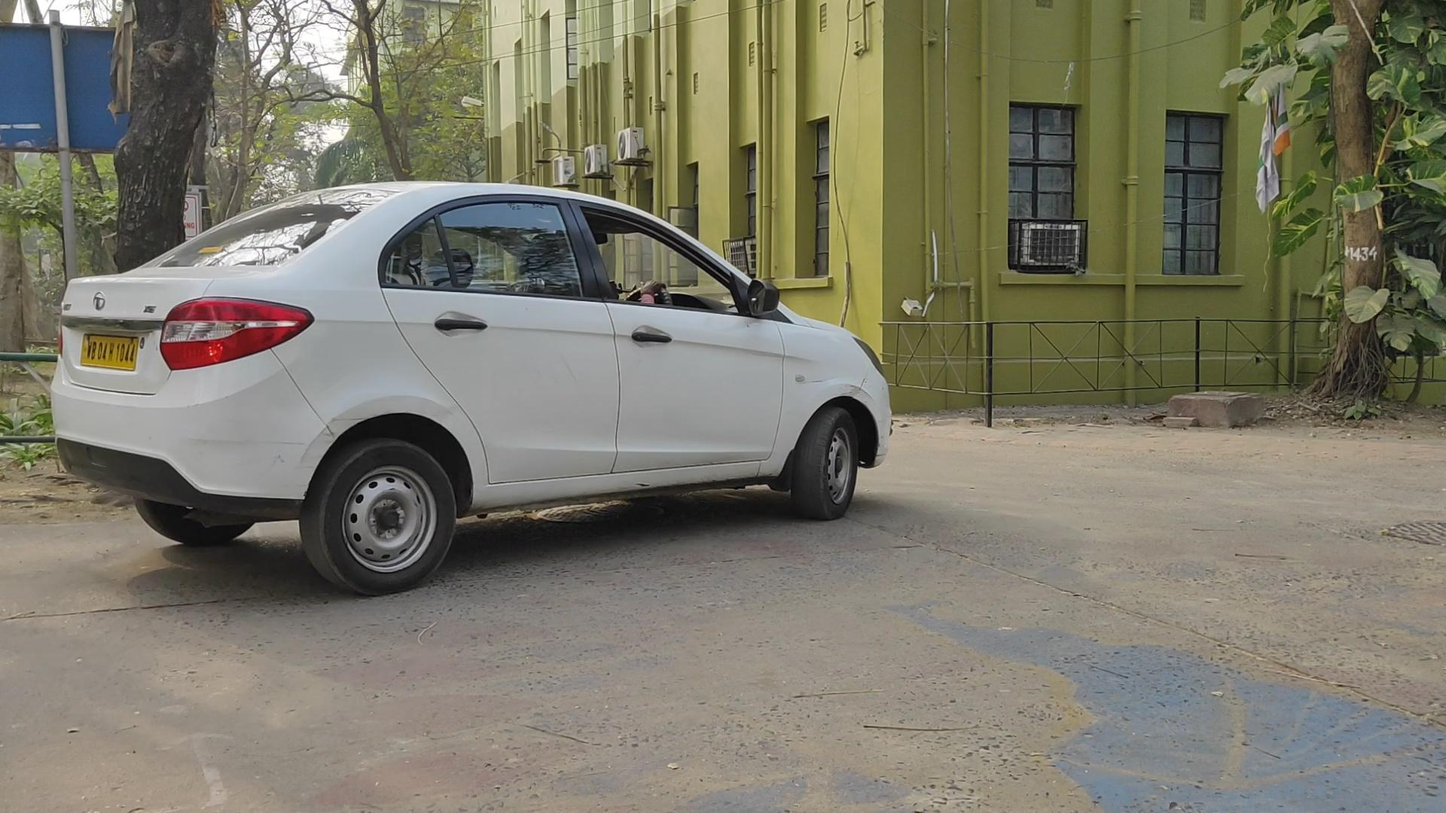car: (49, 177, 894, 597)
